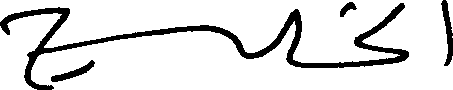ا: (442, 0, 451, 66)
ج: (0, 4, 69, 87)
خ: (335, 2, 406, 68)
ل: (270, 6, 301, 68), (366, 0, 409, 38)
ي: (203, 22, 238, 55)
